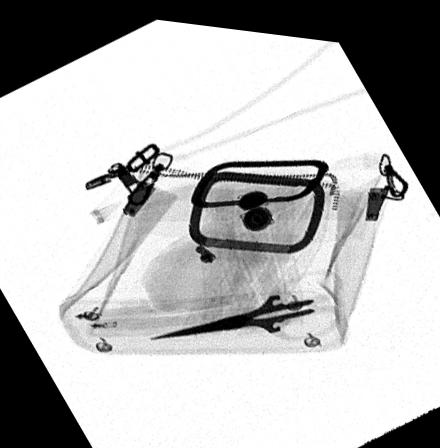Scissors: (145, 260, 347, 335)
